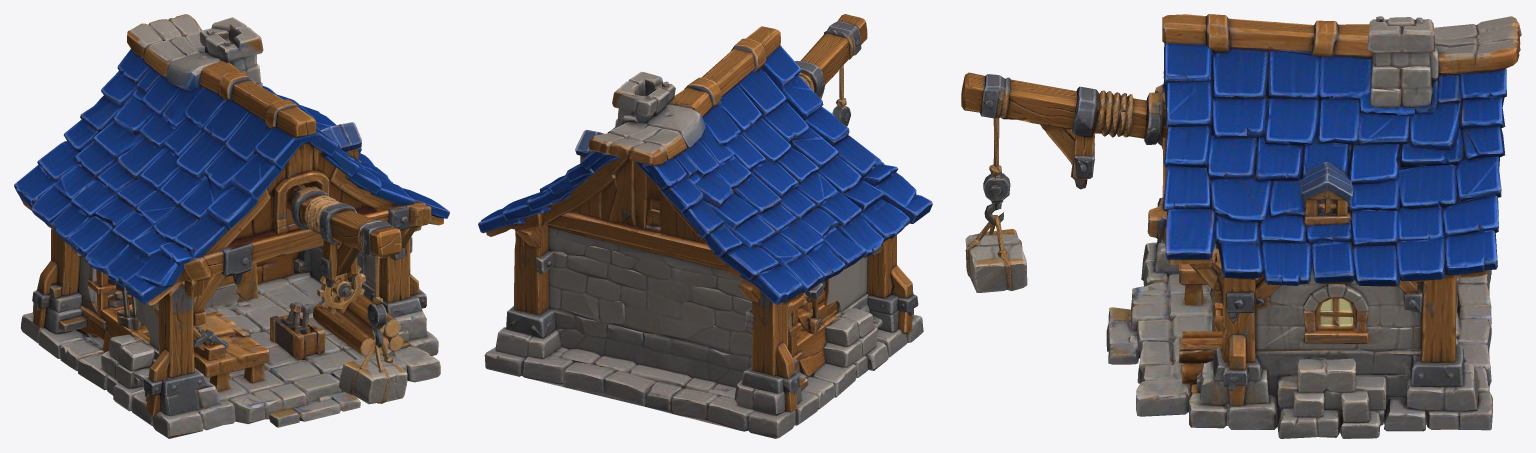
Rendered from workshop.glb.
The picture shows the model from 3 angles, left to right: view 1: azimuth 30°, elevation 25°; view 2: azimuth 150°, elevation 25°; view 3: azimuth 270°, elevation 25°; orthographic projection. The views are drawn at different scales.
Size of the model in its own units: 1.52 by 1.27 by 1.9.
1 material, 1 textured.
